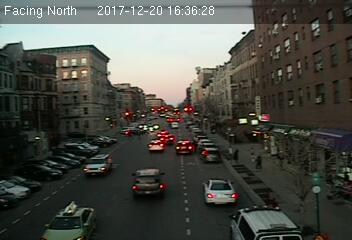car: (36, 201, 100, 240), (130, 168, 168, 199), (202, 177, 237, 202), (82, 153, 112, 175), (200, 147, 222, 163), (175, 139, 193, 155), (147, 138, 165, 152)
police: (225, 205, 298, 240)
